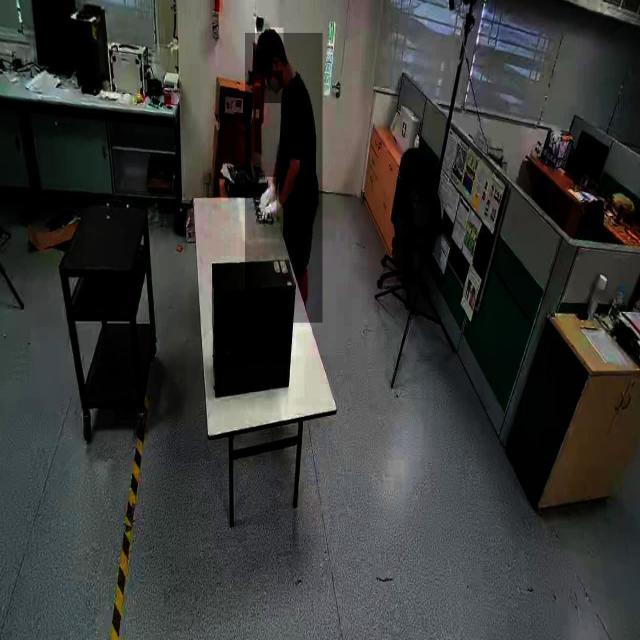face_mask: (264, 70, 284, 104)
hand_glove: (259, 177, 277, 220), (264, 200, 286, 228)
head_nohelmet: (255, 28, 284, 52)
person: (245, 33, 323, 323)
